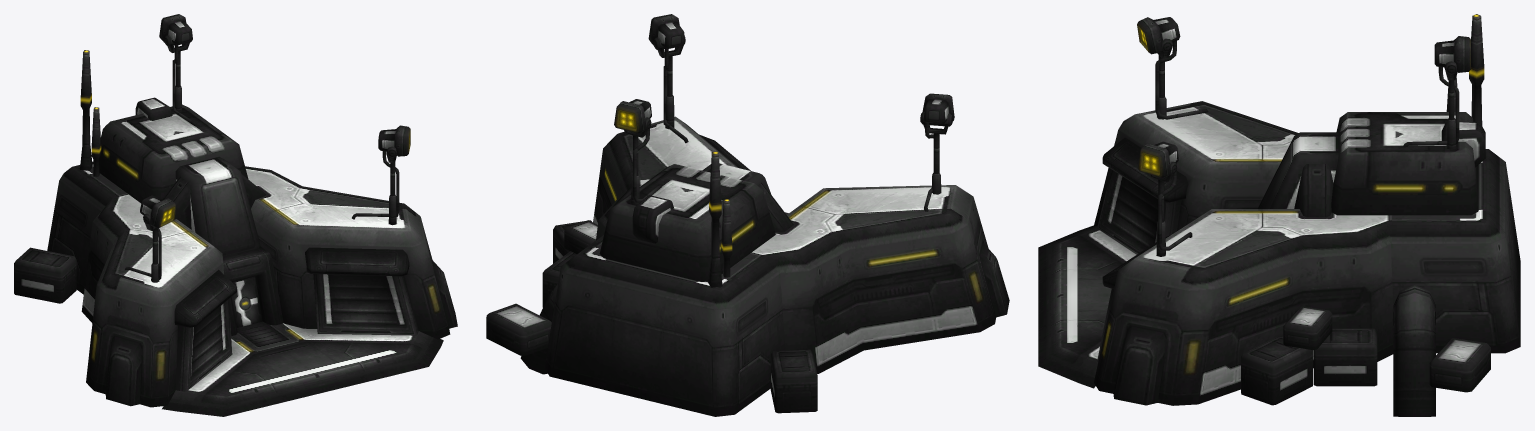
File: UED_MercCompound_V2.glb
3 views of the same model, side by side, from view 1: azimuth 30°, elevation 25°; view 2: azimuth 150°, elevation 25°; view 3: azimuth 270°, elevation 25° (orthographic). The views are drawn at different scales.
Parts seen in each view (by area): view 1: Mesh.002, Mesh.001, Mesh.003, Mesh; view 2: Mesh.002, Mesh.003, Mesh.001, Mesh; view 3: Mesh.002, Mesh.003, Mesh.001, Mesh.
Part boxes in pixels (box(x1,y1,x2,y2)): Mesh.002: box(47, 97, 457, 416); Mesh.001: box(125, 14, 410, 282); Mesh.003: box(14, 247, 76, 303); Mesh: box(80, 50, 101, 176); Mesh.002: box(520, 116, 1009, 416); Mesh.003: box(486, 220, 817, 413); Mesh.001: box(614, 14, 954, 211); Mesh: box(708, 151, 732, 287); Mesh.002: box(1038, 101, 1520, 416); Mesh.003: box(1241, 306, 1490, 405); Mesh.001: box(1137, 17, 1470, 256); Mesh: box(1446, 14, 1484, 125).
Size of the model in its own units: 3.7 by 2.76 by 3.72.
4 materials, 4 textured.
